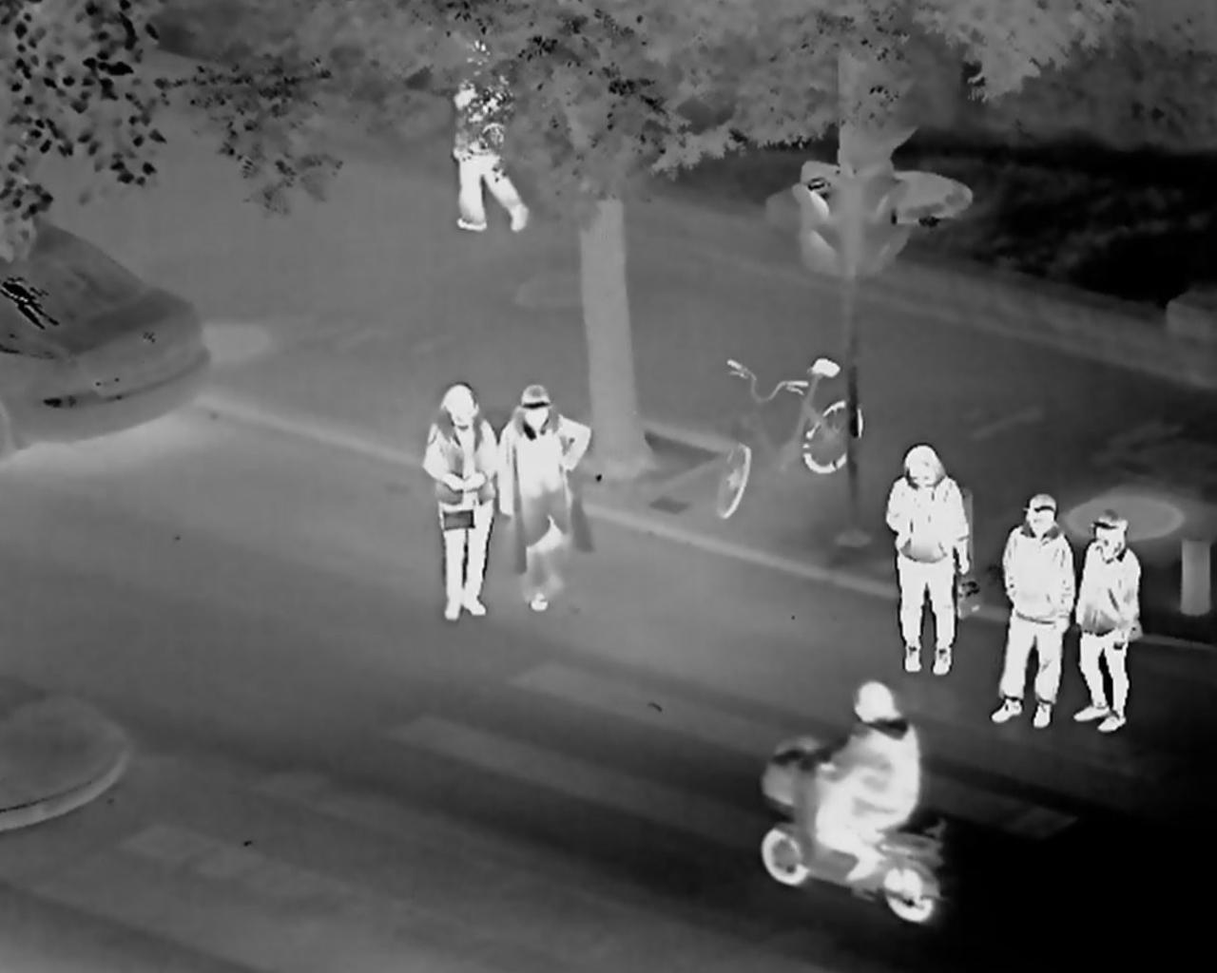person: (809, 681, 923, 901), (496, 381, 589, 620), (884, 443, 969, 683), (431, 39, 531, 233), (998, 494, 1077, 725), (424, 381, 499, 623), (1077, 507, 1146, 732)
